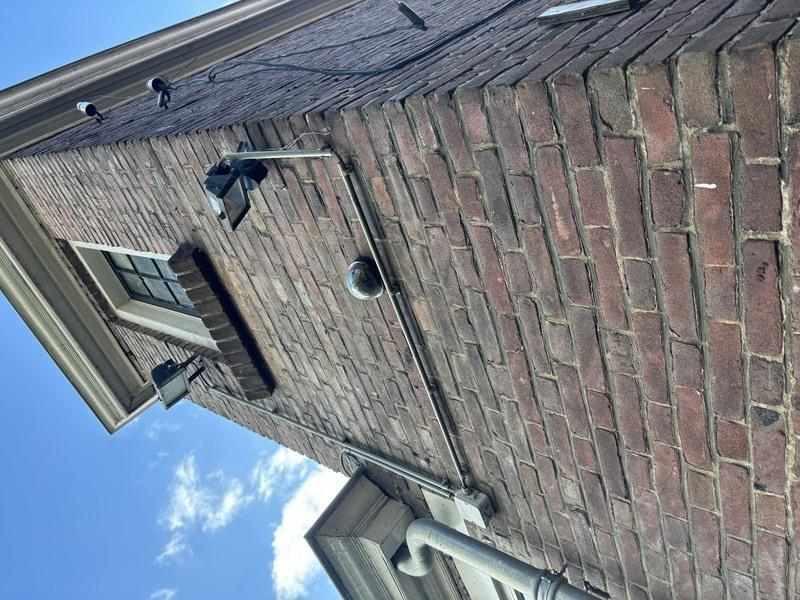dome: (292, 337, 342, 389)
